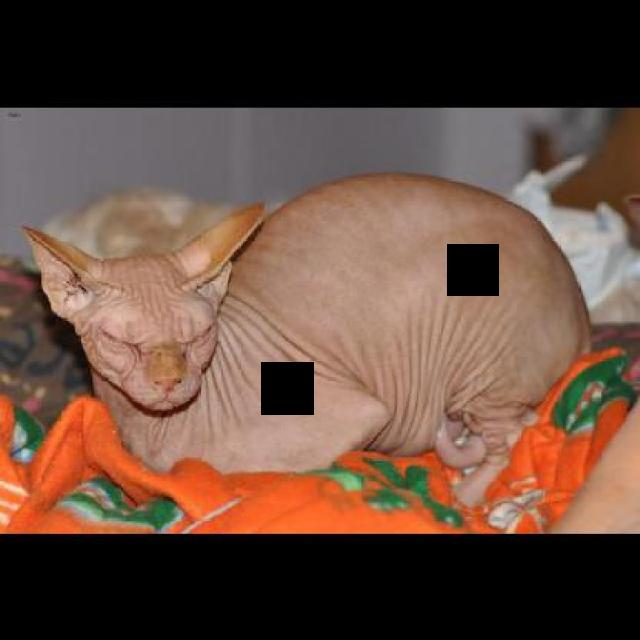unauthorized: (20, 171, 592, 506)
